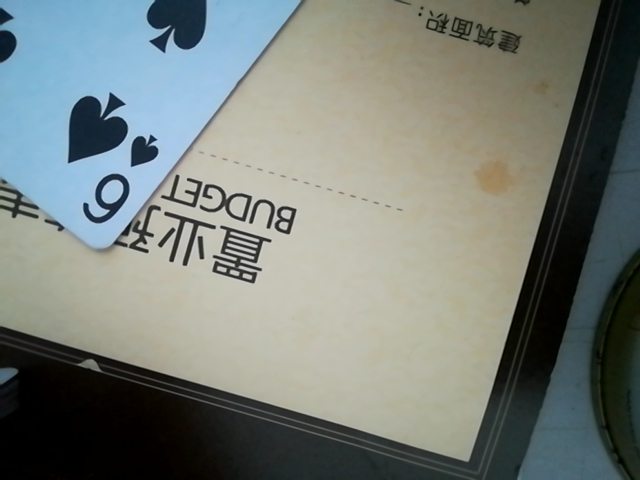ht 6: (6, 3, 351, 248)
